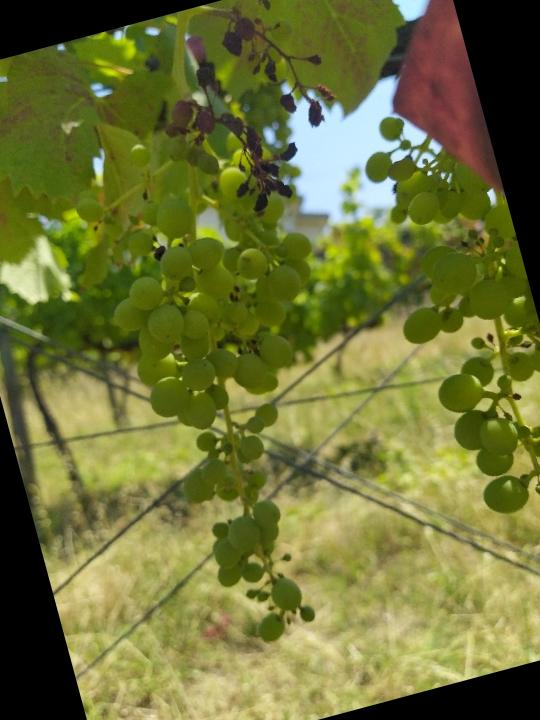grape: (74, 198, 410, 668), (348, 90, 540, 554), (137, 0, 364, 235)
